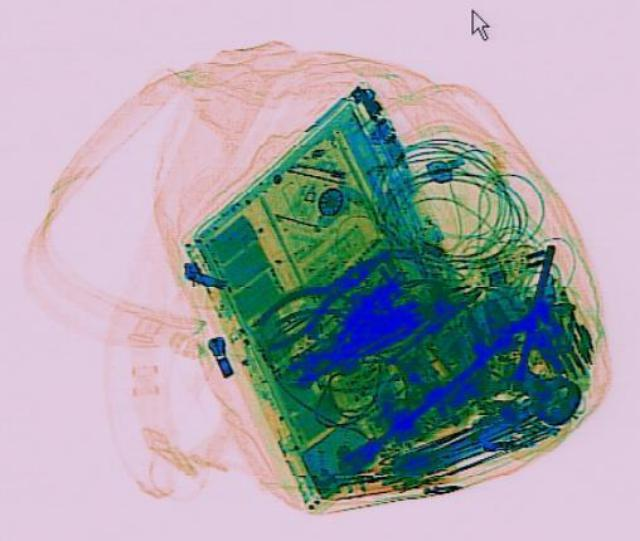Pliers: (240, 238, 398, 351)
